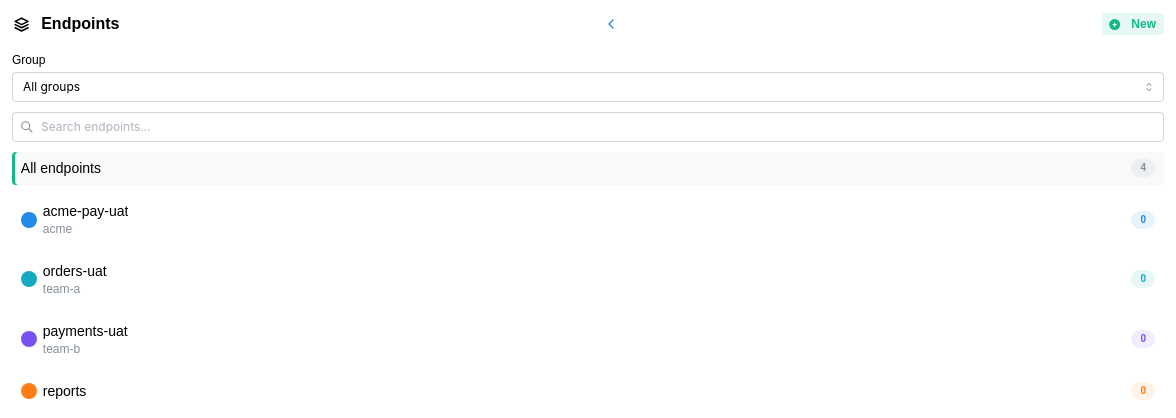
EndpointRail search › clearing the search restores all sessions
In the field labelled "Search endpoints…": coordinates (588, 127) [12,112,1164,142], type "team-b"
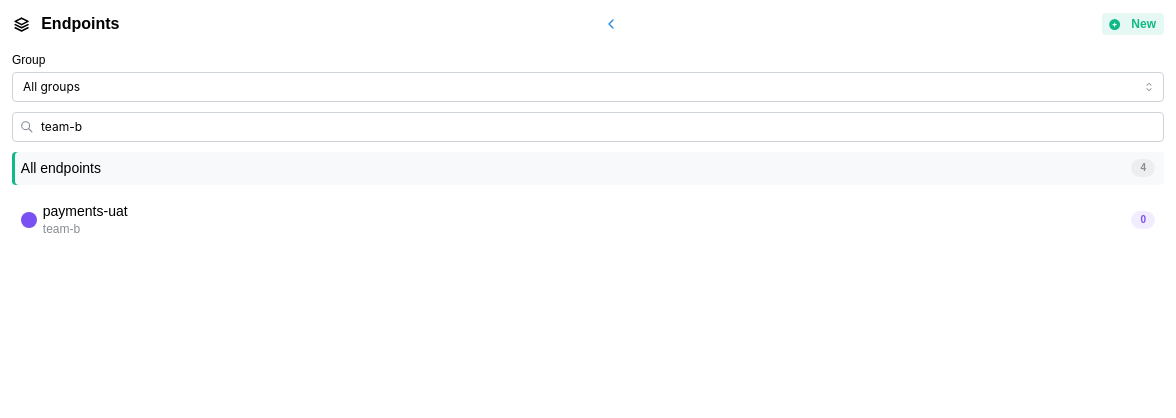
Check: the button "reports" is gone
Clear the field named "Search endpoints": coordinates (588, 127) [12,112,1164,142]
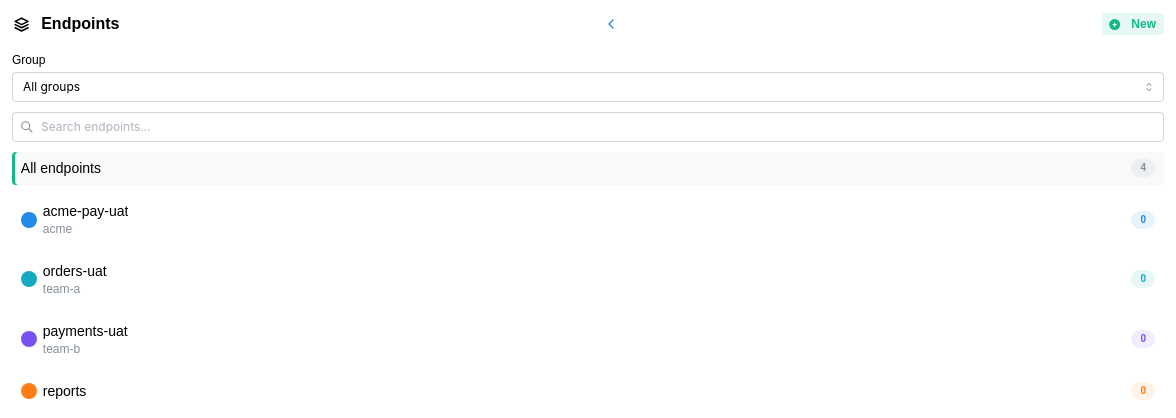
Check: the text "reports" is shown, box [43,381,86,401]
Check: the text "acme-pay-uat" is shown, box [43,201,128,221]
